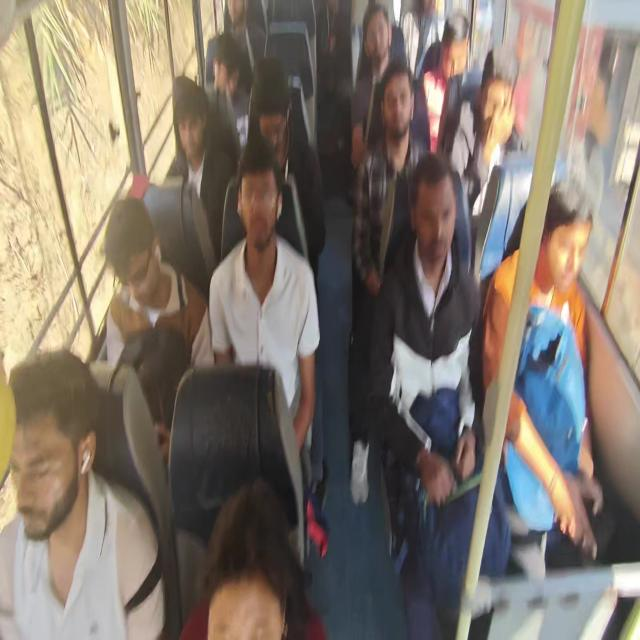person: (2, 1, 636, 638), (367, 151, 510, 637), (191, 133, 327, 559), (479, 179, 604, 572), (0, 348, 166, 638), (347, 58, 431, 505), (99, 195, 208, 460), (180, 477, 324, 639), (246, 56, 326, 283), (163, 75, 236, 280), (463, 45, 521, 214), (350, 3, 407, 172), (420, 11, 470, 153), (206, 33, 244, 164), (222, 0, 266, 95)
